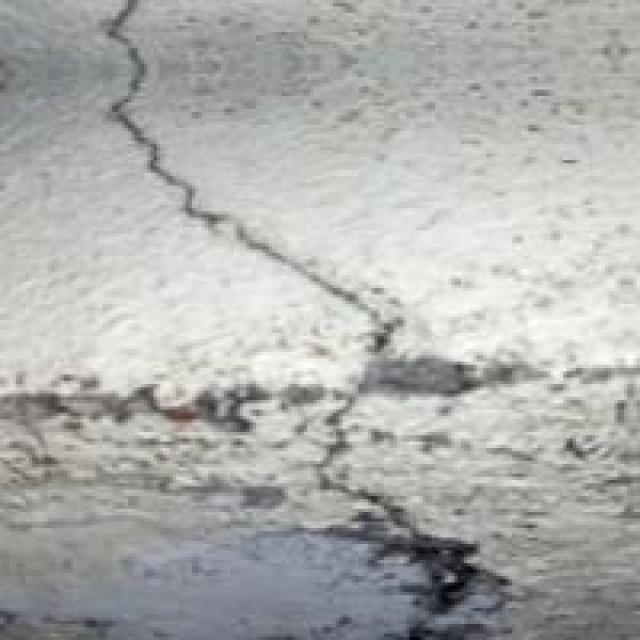crack: (80, 0, 361, 374)
